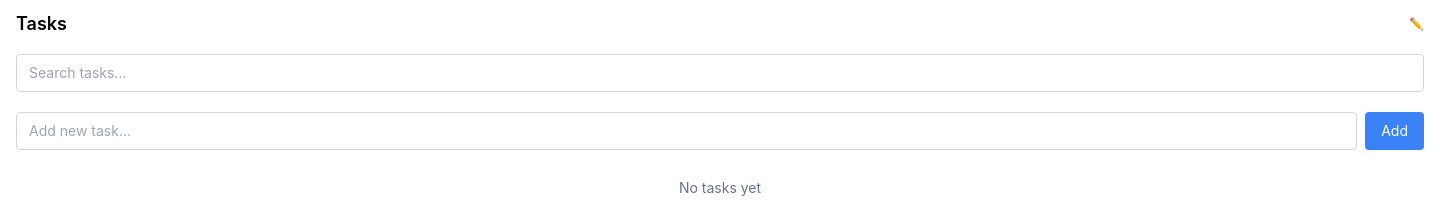
TasksWidget › edits a task
Type "Original task" into the field with placeholder "Add new task..." at (687, 131), box top-left (16, 112), bottom-right (1357, 150)
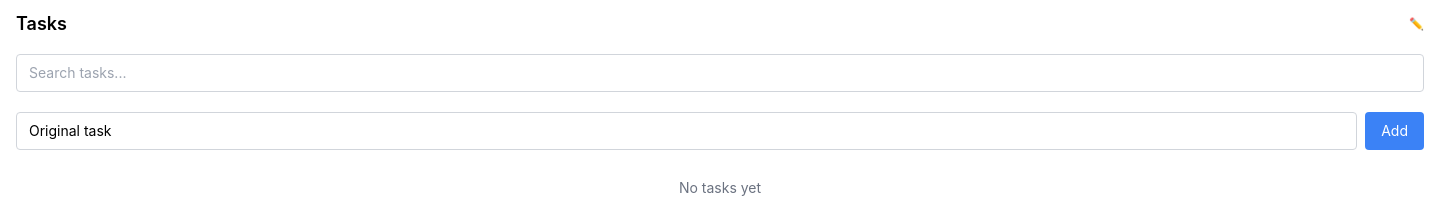
Click the button "Add" at (1395, 131), box top-left (1365, 112), bottom-right (1424, 150)
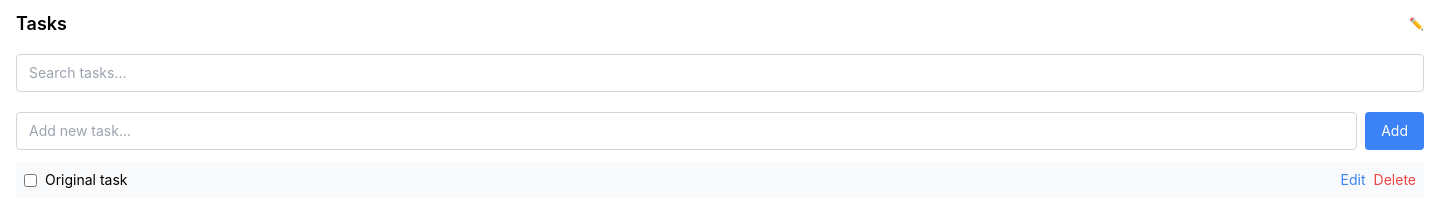
Expected: the text "Original task" is shown, top-left (45, 171), bottom-right (128, 188)
Click the button "Edit" at (1353, 180), box top-left (1341, 170), bottom-right (1366, 190)
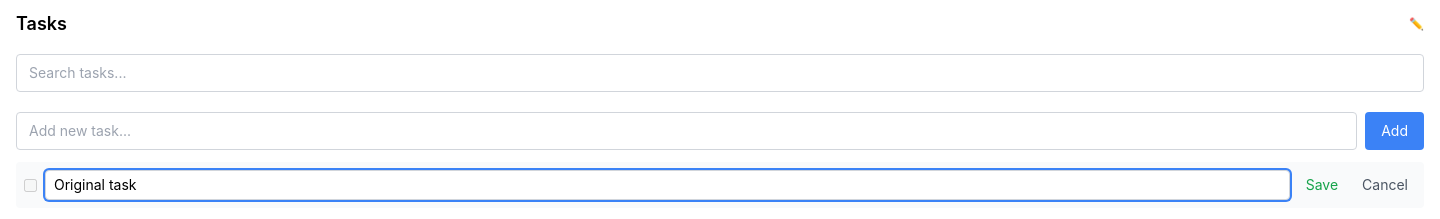
Replace the text in the field showing "Original task" with "Edited task" at (667, 185), box top-left (45, 170), bottom-right (1290, 200)
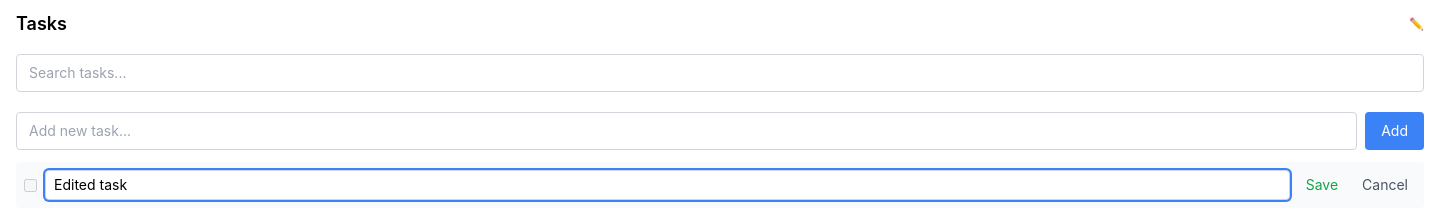
Click the button "Save" at (1322, 185), box top-left (1298, 175), bottom-right (1346, 195)
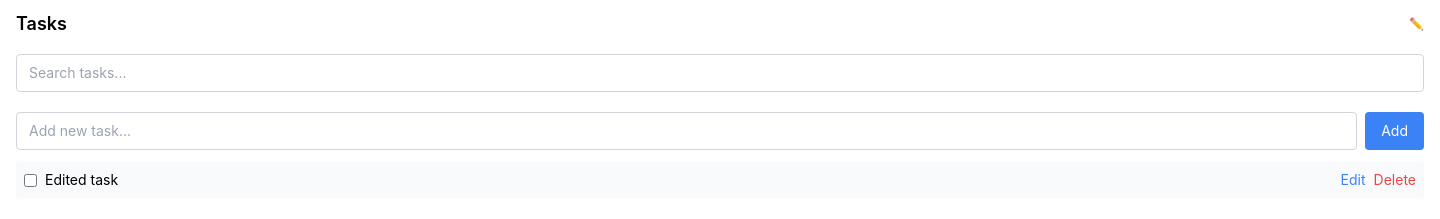
Expected: the text "Original task" is not shown
Expected: the text "Edited task" is shown, top-left (45, 171), bottom-right (118, 188)
